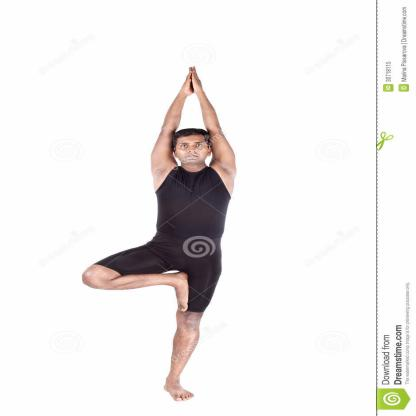tree: (67, 62, 280, 407)
